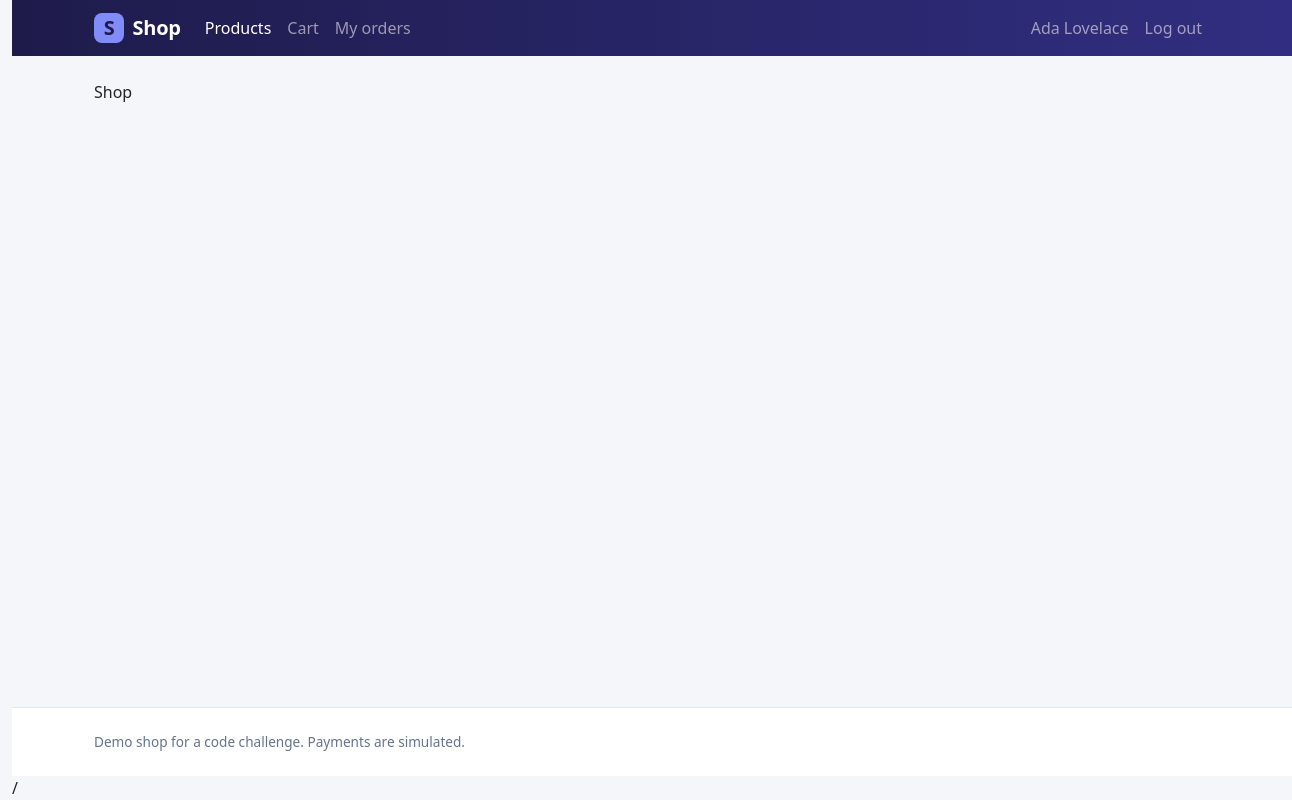
Scenario: Layout › says when signing out failed
This screenshot has width=1292, height=800.
Click the button "Log out": (1173, 28) [1137,8,1210,48]
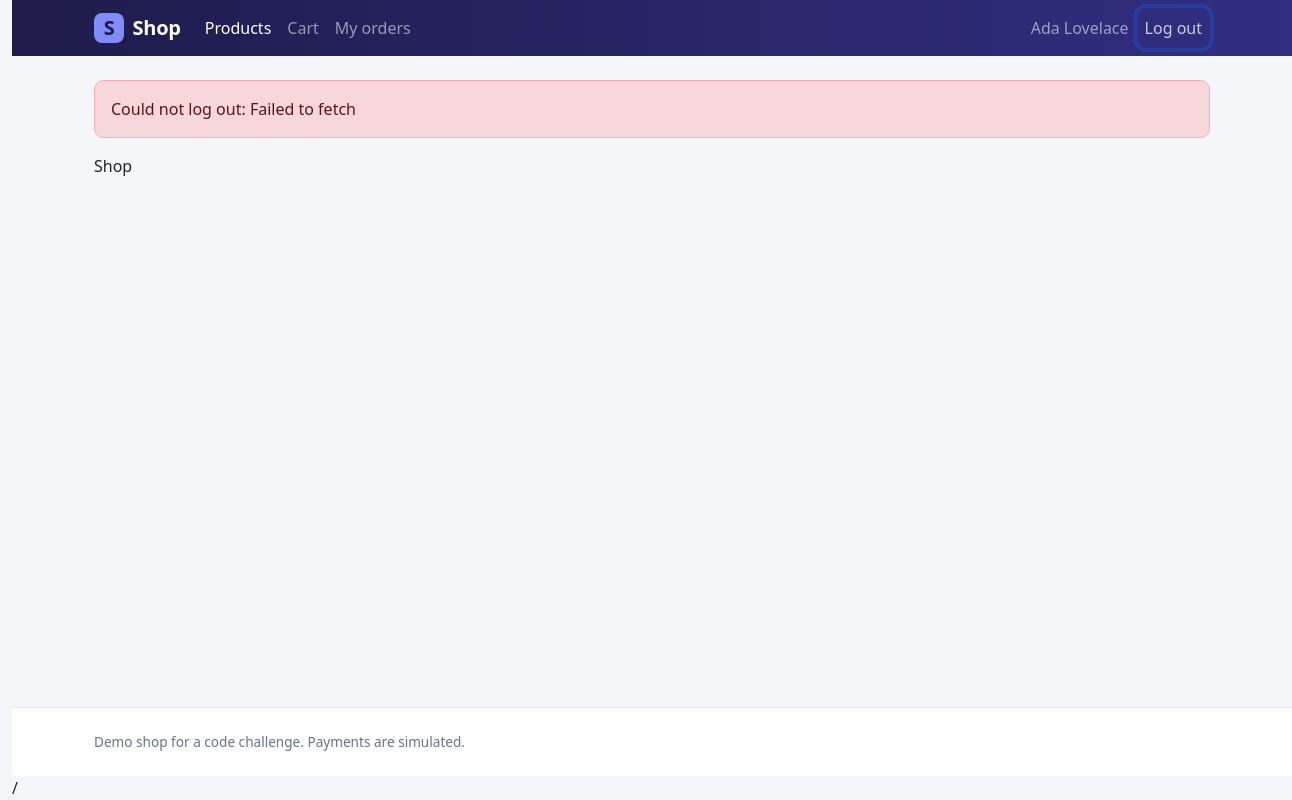
Now the message reads "Could not log out: Failed to fetch", box [94,80,1210,138]
